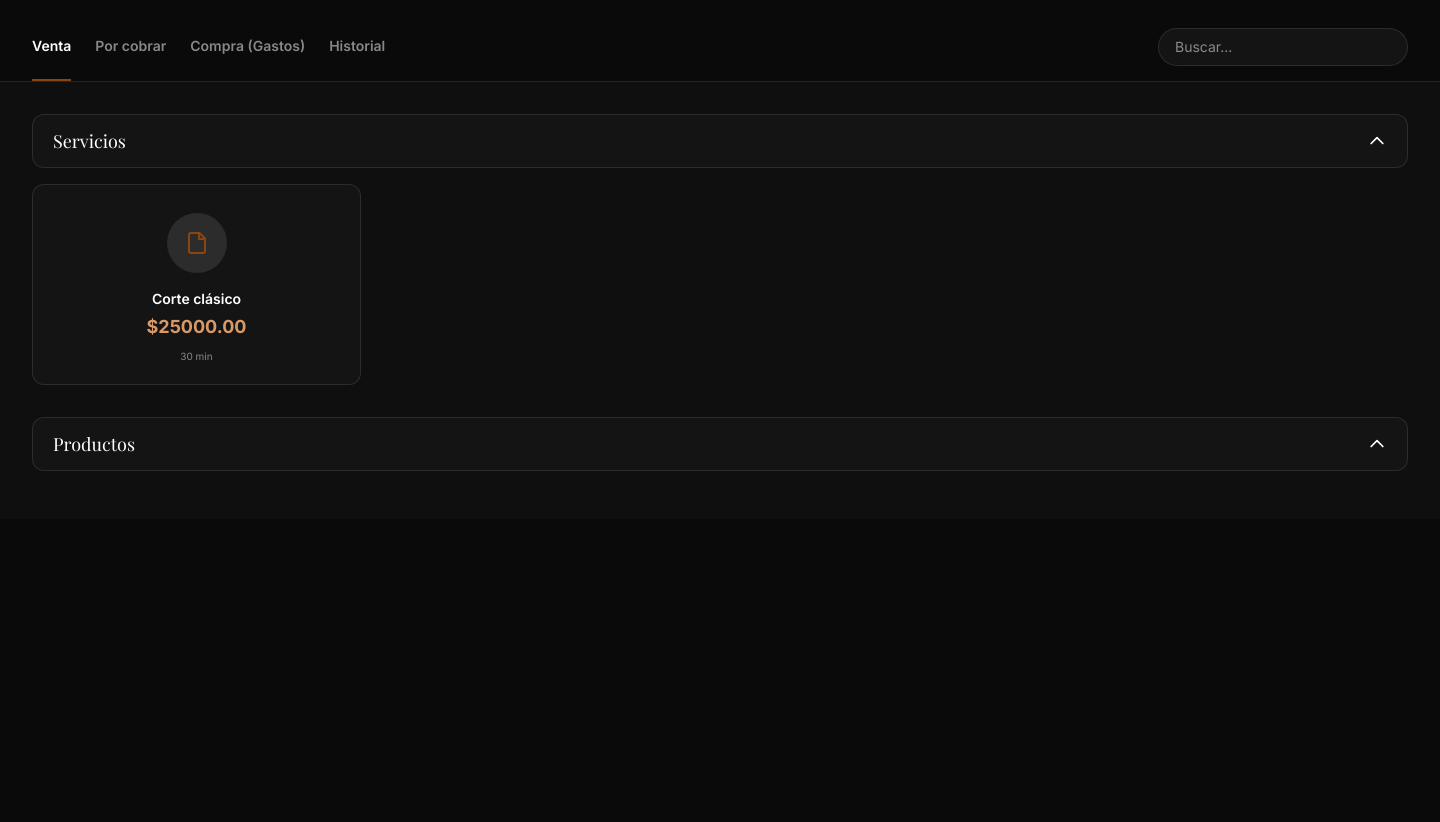
POSManager › permite buscar y seleccionar el cliente desde el ticket de venta
Click the heading "Corte clásico". click: click(196, 299)
box: [152,289,241,309]
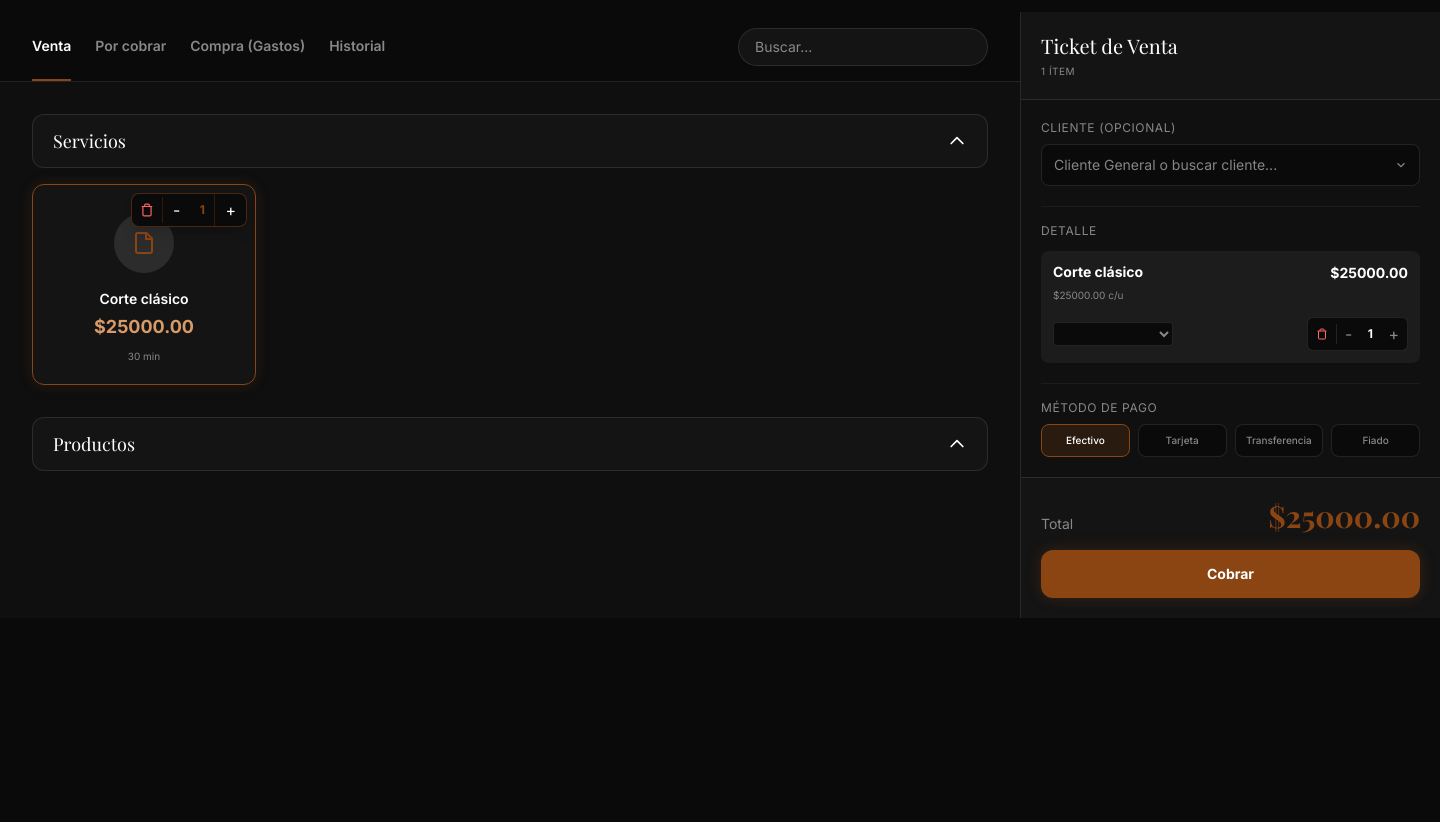
Type "Carlos" into the dropdown labelled "Cliente (Opcional)". click: (1230, 165)
box: [1041,144,1420,186]
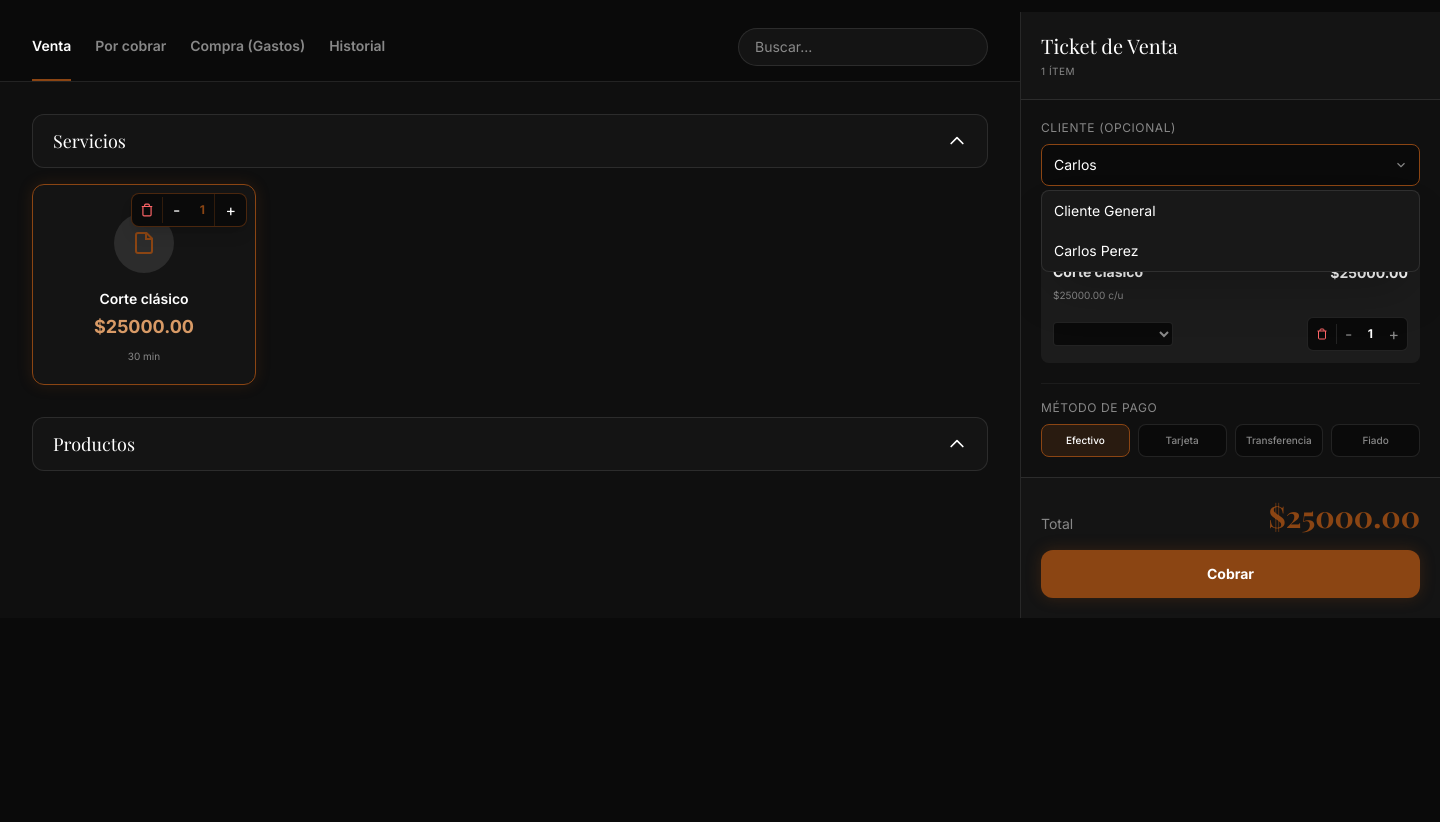
Click the option "Carlos Perez". click: click(1096, 250)
box: [1042,231,1419,271]
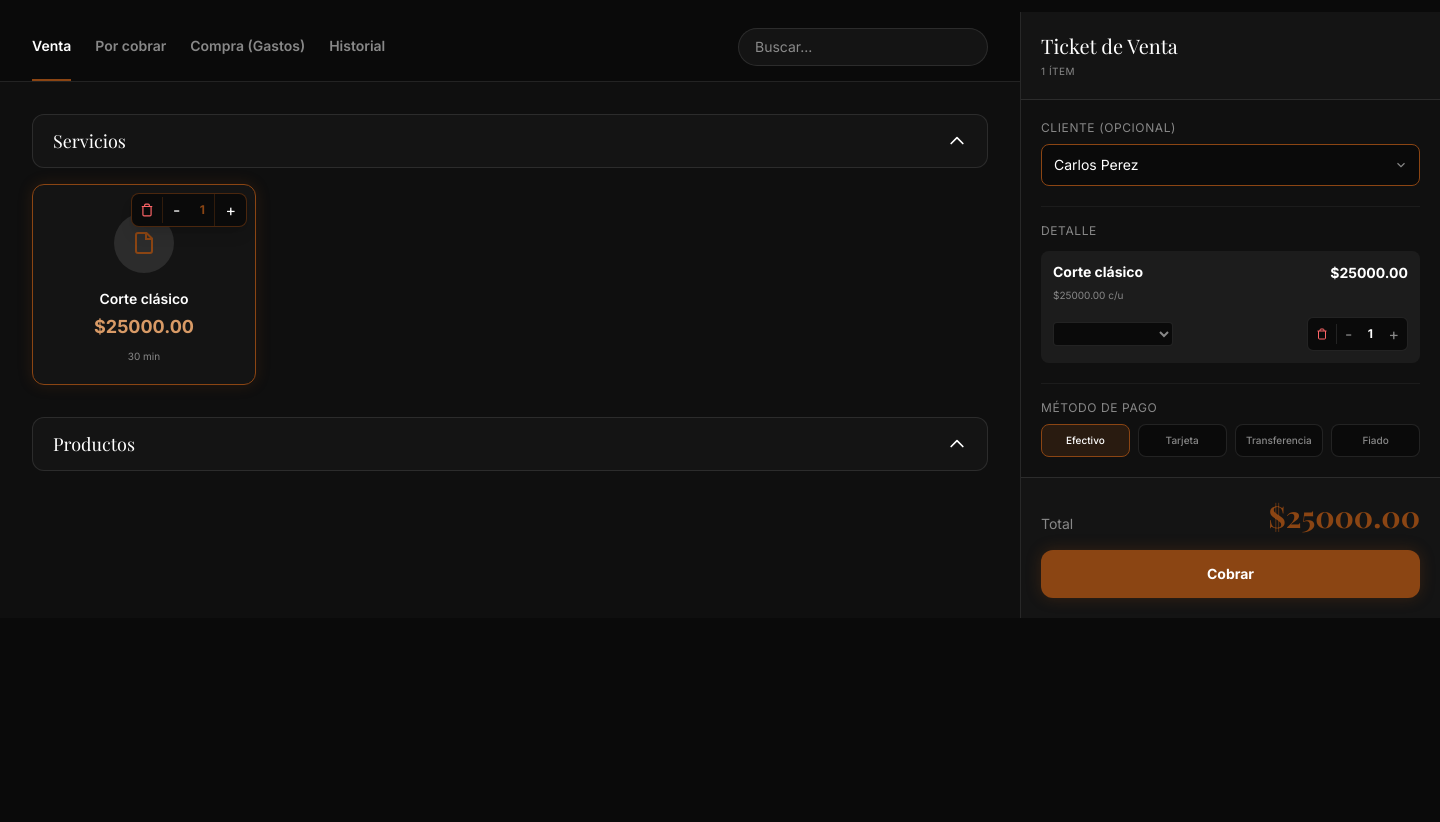
Expected: the dropdown labelled "Cliente (Opcional)" holds "Carlos Perez", [1041,144,1420,186]
